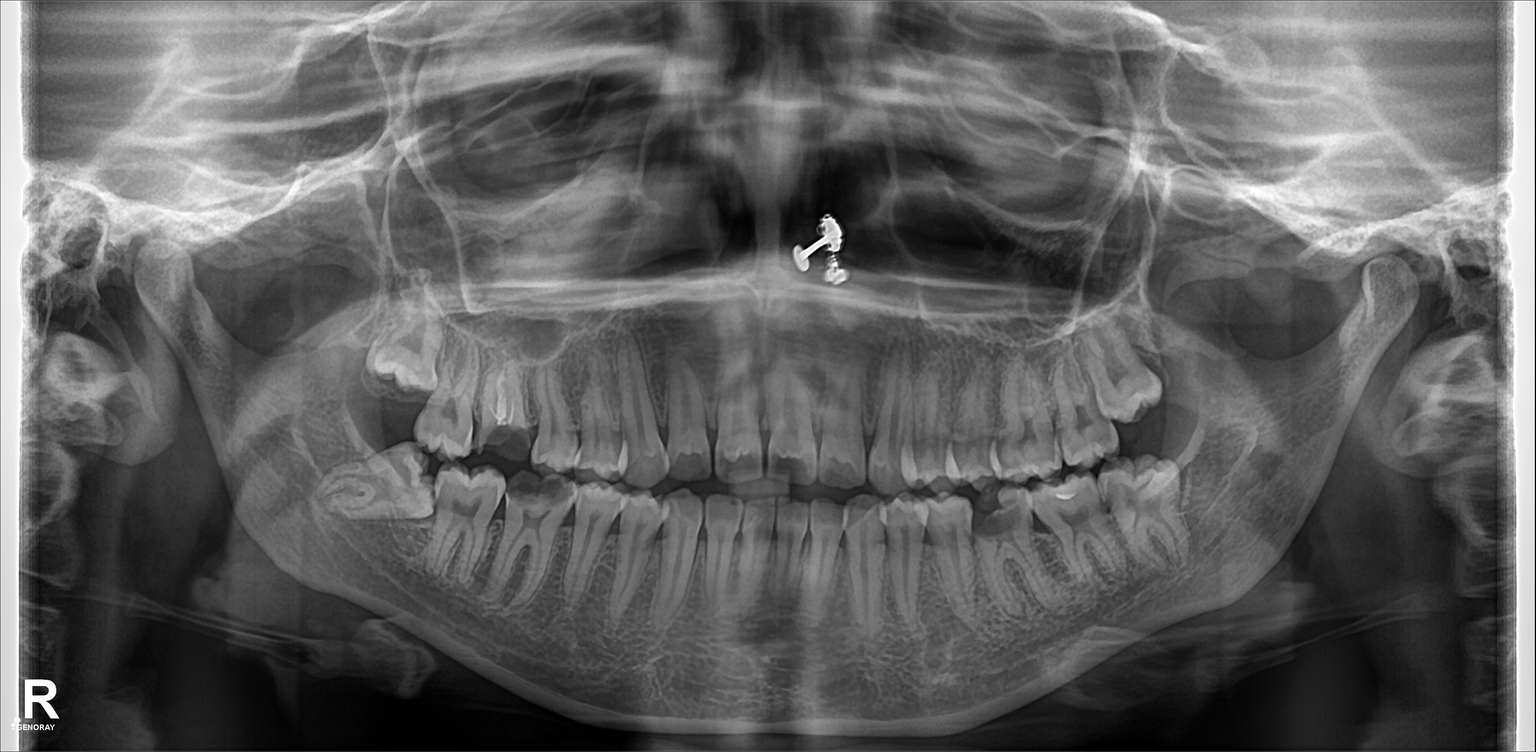Dental Caries: (507, 469, 577, 508), (968, 490, 1019, 535), (1106, 478, 1164, 517), (482, 423, 535, 453)
Endodontically Treated Tooth: (481, 361, 535, 459)
Impacted Third Molar: (305, 450, 447, 524), (365, 313, 435, 390)
